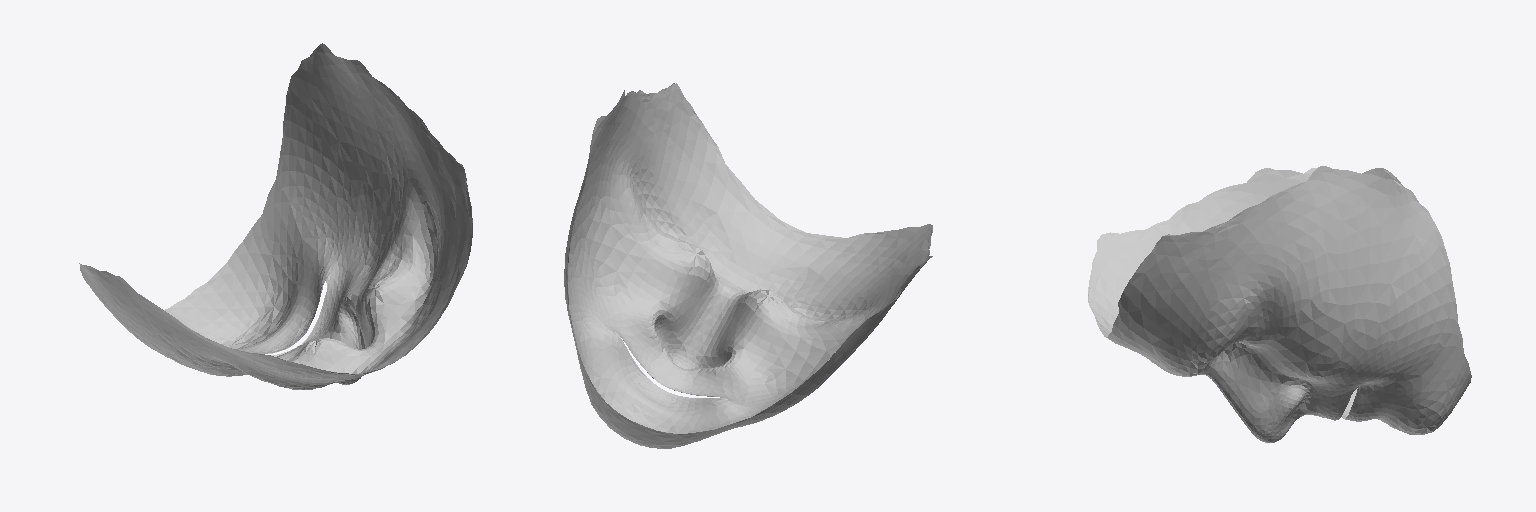
The model's file is face_gab_sfm40.obj.
3 renders of one model, left to right at view 1: azimuth 30°, elevation 25°; view 2: azimuth 150°, elevation 25°; view 3: azimuth 270°, elevation 25°, orthographic.
Size of the model in its own units: 164 by 154 by 178.